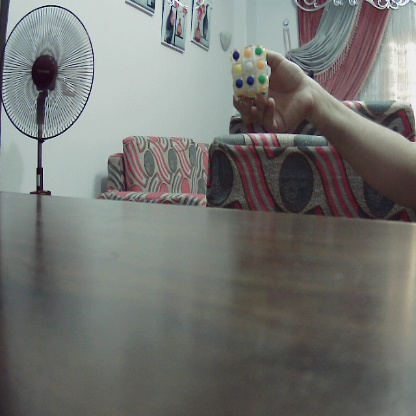Rubix Cube: (231, 46, 270, 98)
